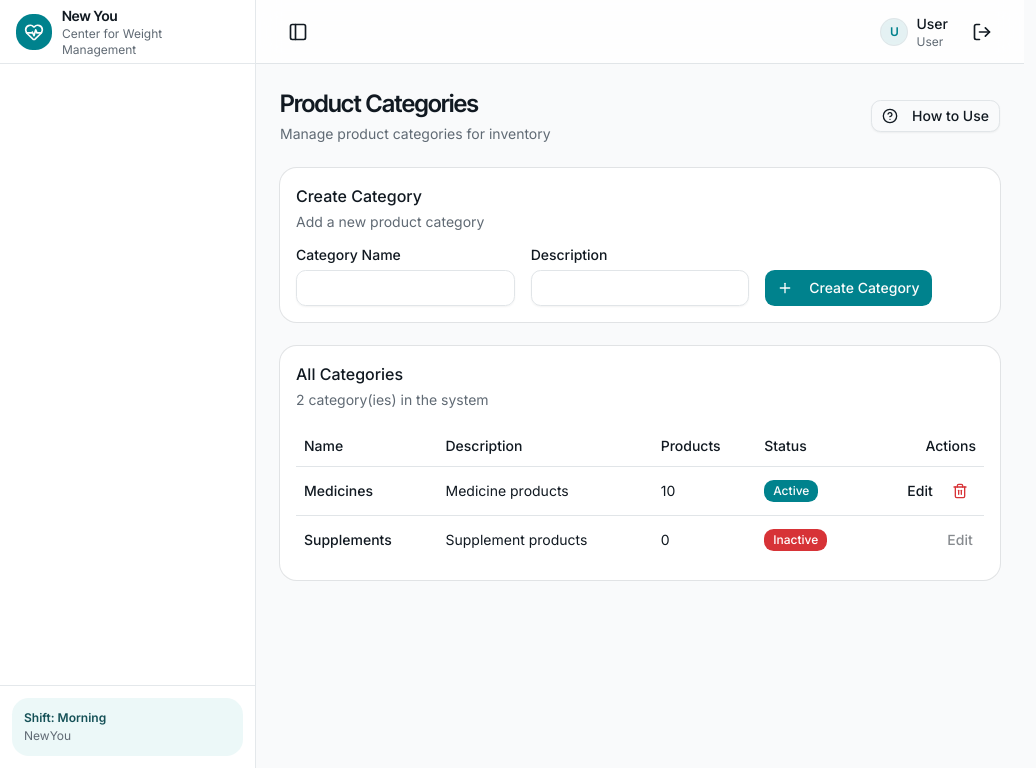
it: Product Categories Page UI › opens edit form with category values
The image size is (1036, 768).
Expected: the text "Medicines" is shown, [296,466,438,515]
What coordinates should you click on to do the following:
click the button "Edit" in the row of "Medicines"
I would click on:
 (920, 490)
Its box is [904,474,936,506].
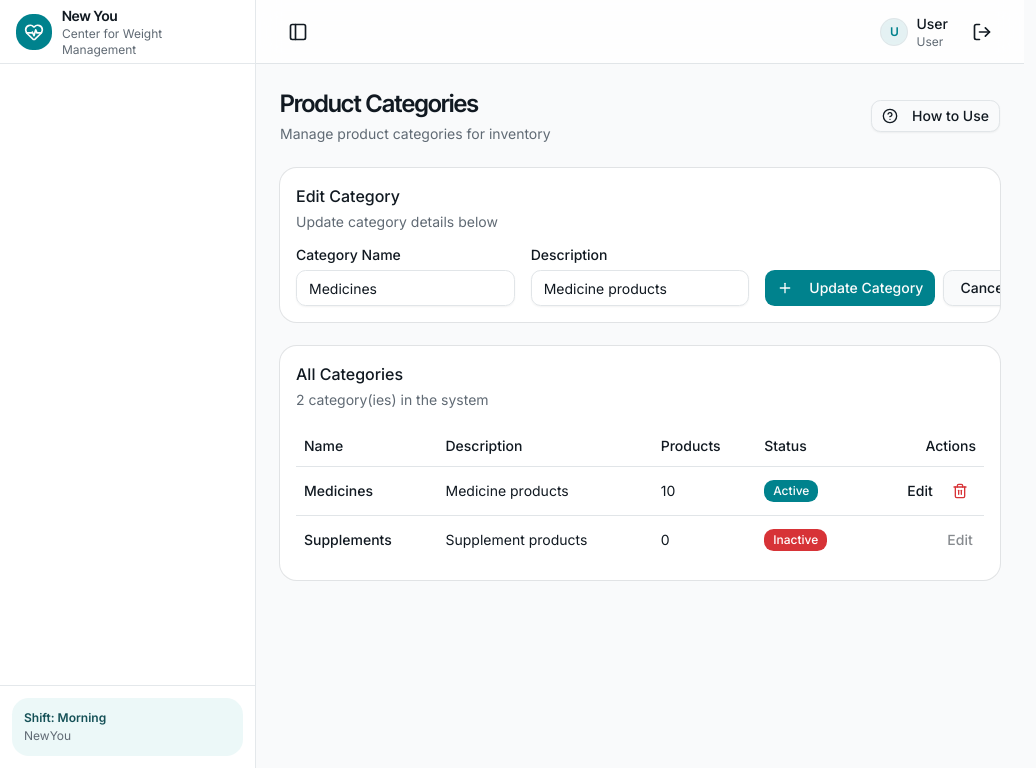
Expected: the text "Update category details below" is shown, [296,213,498,230]
Expected: the field showing "Medicines" is shown, [296,270,515,306]
Expected: the field showing "Medicine products" is shown, [531,270,749,306]
